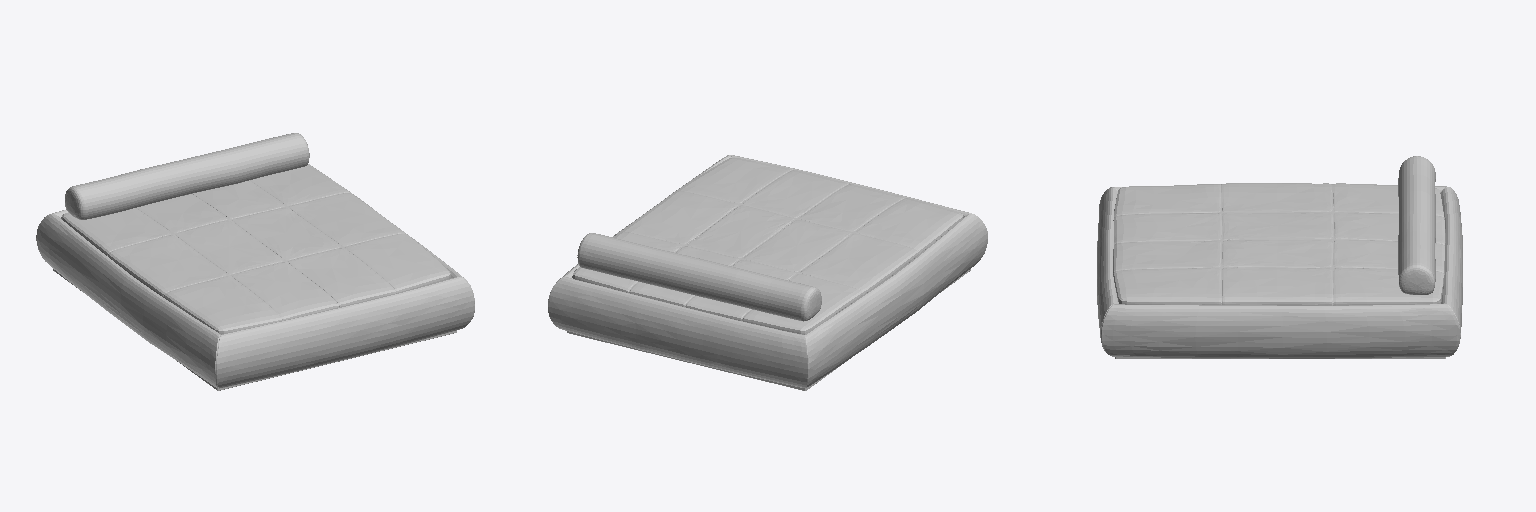
The model's file is Bed 03.obj.
3 views of the same model, side by side, from view 1: azimuth 30°, elevation 25°; view 2: azimuth 150°, elevation 25°; view 3: azimuth 270°, elevation 25° (orthographic).
Parts seen in each view (by area): view 1: obj_03, obj_04, obj_02; view 2: obj_03, obj_04, obj_02; view 3: obj_03, obj_04, obj_02.
Part boxes in pixels (left/top/right/bottom): obj_03: left=61, top=166, right=450, bottom=334; obj_04: left=36, top=164, right=474, bottom=388; obj_02: left=65, top=133, right=309, bottom=219; obj_03: left=572, top=158, right=963, bottom=334; obj_04: left=548, top=155, right=987, bottom=387; obj_02: left=577, top=233, right=821, bottom=321; obj_03: left=1113, top=183, right=1445, bottom=305; obj_04: left=1097, top=186, right=1462, bottom=358; obj_02: left=1398, top=156, right=1435, bottom=294.
Size of the model in its own units: 64.47 by 20.86 by 76.05.